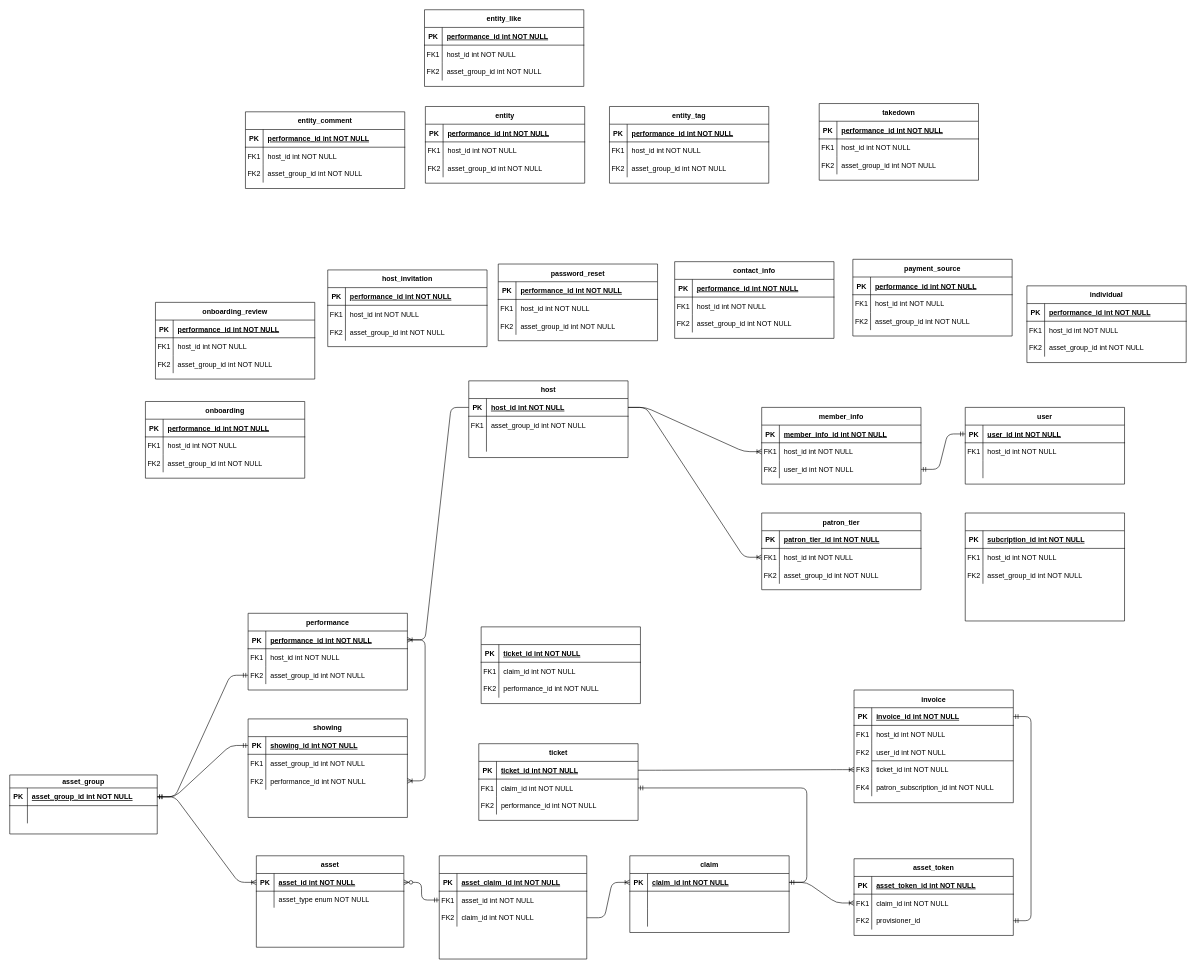
This 1196x969 diagram has some shape labels left out. Each missing label, with the box of its shape:
asset_claim_pivot: (439, 855, 587, 959)
patron_tier_subscription: (965, 512, 1125, 621)
performance_ticket_template: (481, 626, 640, 704)
